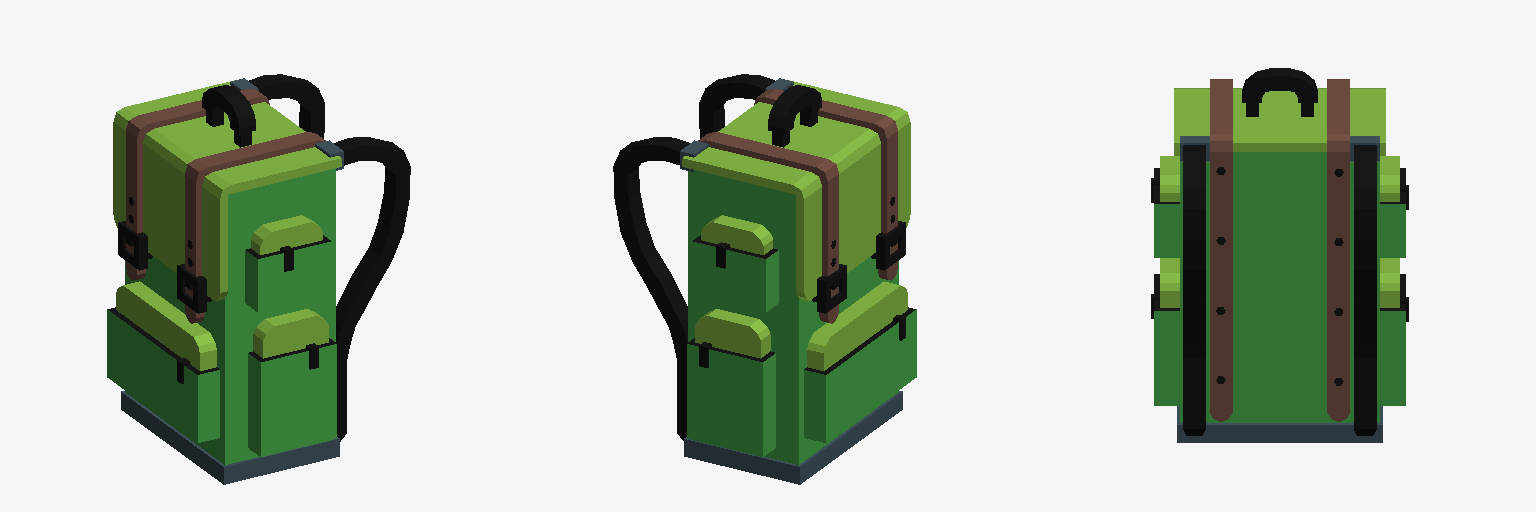
Rendered from Bag.obj.
3 views of the same model, side by side, from view 1: azimuth 30°, elevation 25°; view 2: azimuth 150°, elevation 25°; view 3: azimuth 270°, elevation 25° (orthographic).
Visible parts, largest first — view 1: group[number redacted]; view 2: group[number redacted]; view 3: group[number redacted].
Part boxes in pixels (left/top/right/bottom): group[number redacted]: left=107, top=74, right=410, bottom=484; group[number redacted]: left=613, top=74, right=916, bottom=484; group[number redacted]: left=1151, top=68, right=1408, bottom=442.
Bounding box in the file's own units: 0.75 × 1.15 × 0.79.